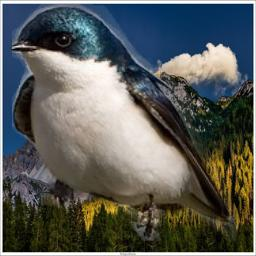Swallow: (12, 4, 236, 241)
